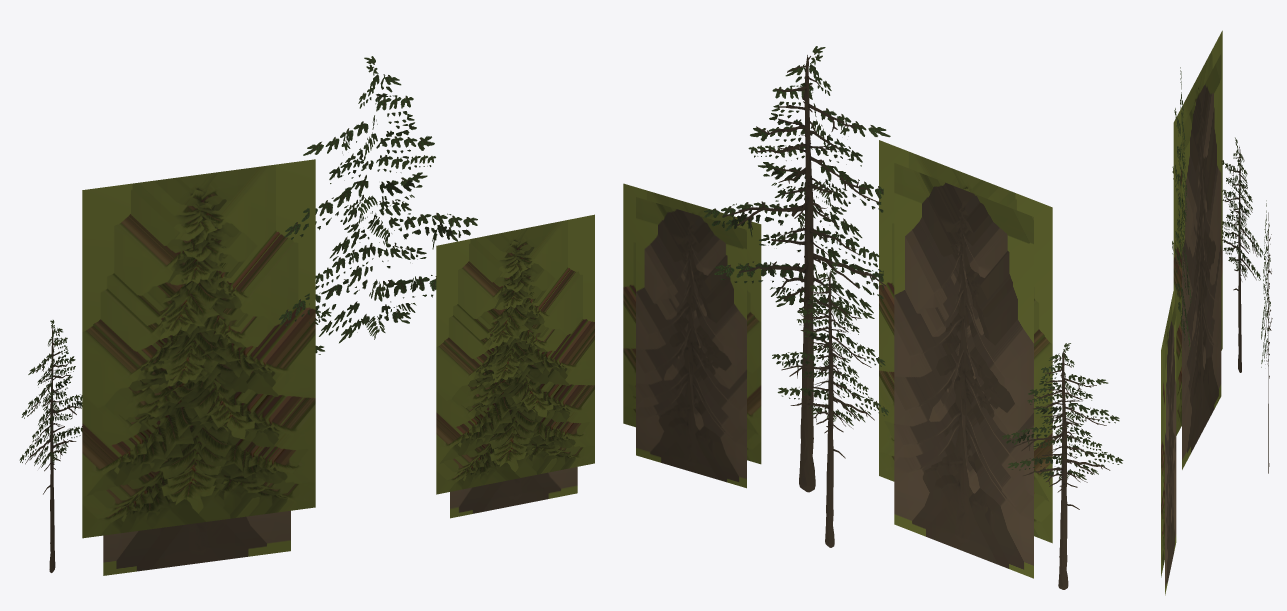
The model's file is trees_02.gltf.
The picture shows the model from 3 angles, left to right: view 1: azimuth 30°, elevation 25°; view 2: azimuth 150°, elevation 25°; view 3: azimuth 270°, elevation 25°; orthographic projection. The views are drawn at different scales.
Visible parts, largest first — view 1: trees_02; view 2: trees_02; view 3: trees_02.
Boxes of the visible parts, <box> form: trees_02: <box>19,56,594,575</box>; trees_02: <box>623,46,1123,589</box>; trees_02: <box>1161,30,1272,595</box>.
Bounding box in the file's own units: 18.96 × 15.97 × 3.62.
Materials: 2 (2 with a texture image).
